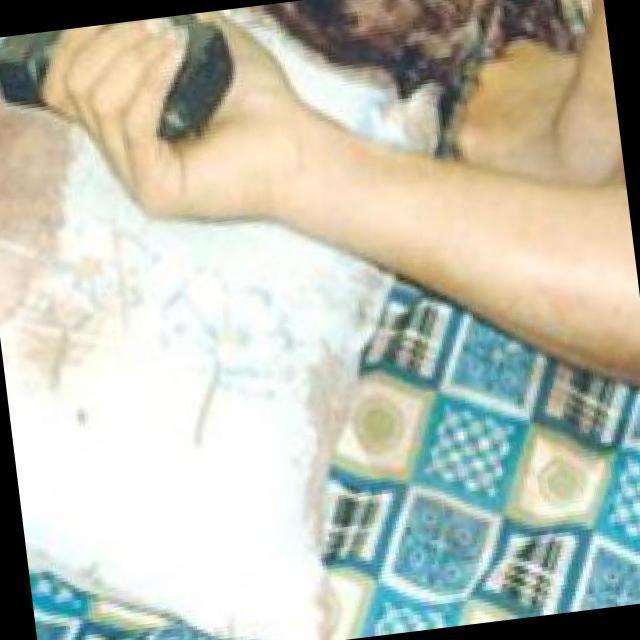Guns: (0, 6, 263, 175)
